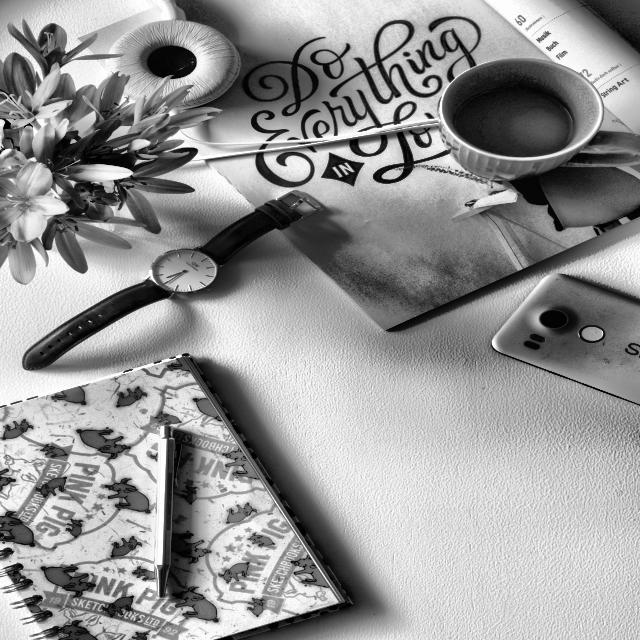Notebook: (0, 351, 356, 640)
Pen: (149, 424, 181, 602)
